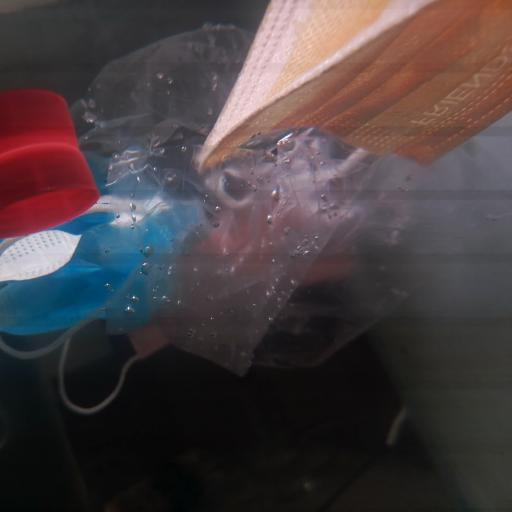bottle_cap: (4, 149, 102, 234)
mask: (201, 0, 512, 167), (2, 185, 196, 335)
plastic_bag: (72, 24, 433, 376)
